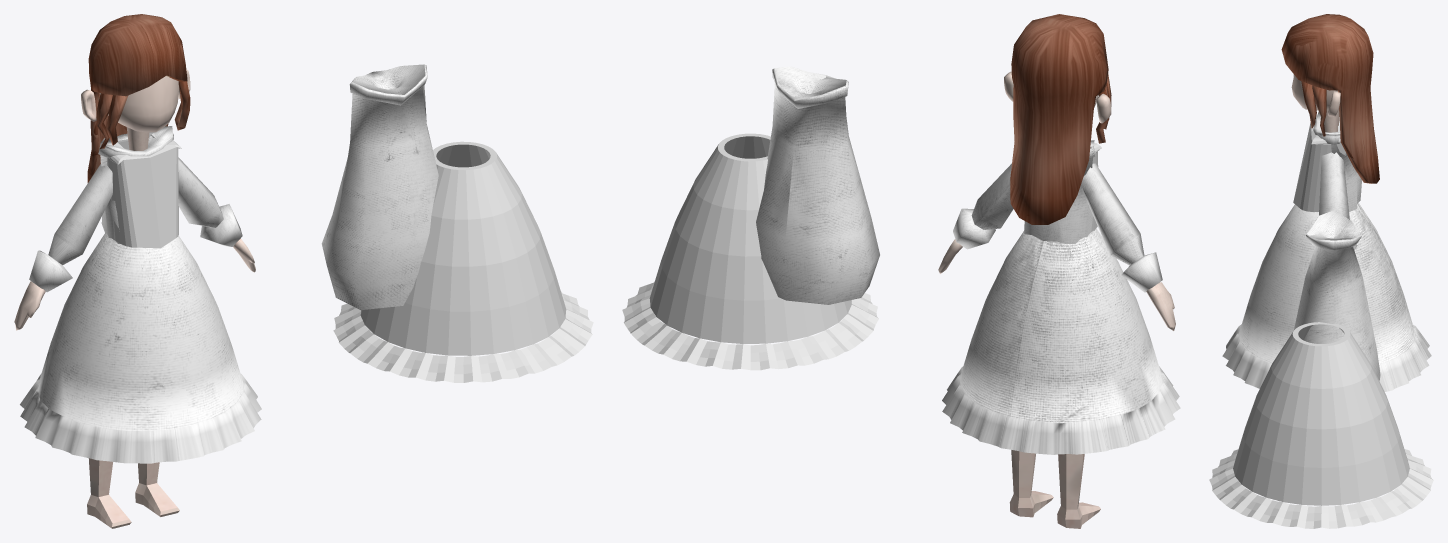
Rendered from fantasma_nena_lowpoly.fbx.
The picture shows the model from 3 angles, left to right: view 1: azimuth 30°, elevation 25°; view 2: azimuth 150°, elevation 25°; view 3: azimuth 270°, elevation 25°; orthographic projection. The views are drawn at different scales.
Visible parts, largest first — view 1: Cone, Cone.001, Cube.005, pelo, brazos, Cube.004, Cylinder, Cube.001, cuepo; view 2: Cone, Cone.001, Cube.005, pelo, brazos, Cylinder, cuepo; view 3: Cone.001, Cone, pelo, Cube.005, Cube.004, brazos, cuepo, Cube.001, Cylinder.002.
Part boxes in pixels (x1,y1,x2,y2): Cone: (20,233,261,463); Cone.001: (333,141,593,382); Cube.005: (321,64,438,309); pelo: (87,14,190,182); brazos: (14,157,255,330); Cube.004: (99,132,181,248); Cylinder: (87,458,179,528); Cube.001: (99,76,178,132); cuepo: (98,126,173,243); Cone: (942,228,1180,454); Cone.001: (622,133,878,370); Cube.005: (756,66,879,304); pelo: (1010,14,1111,224); brazos: (938,163,1175,330); Cylinder: (1009,450,1100,528); cuepo: (1024,140,1095,243); Cone.001: (1209,322,1433,528); Cone: (1222,203,1431,391); pelo: (1281,14,1379,183); Cube.005: (1294,210,1380,380); Cube.004: (1293,115,1345,211); brazos: (1319,152,1357,250); cuepo: (1313,111,1361,211); Cube.001: (1291,74,1337,110); Cylinder.002: (1324,109,1339,132).
Bounding box in the file's own units: 435 × 372 × 179.
